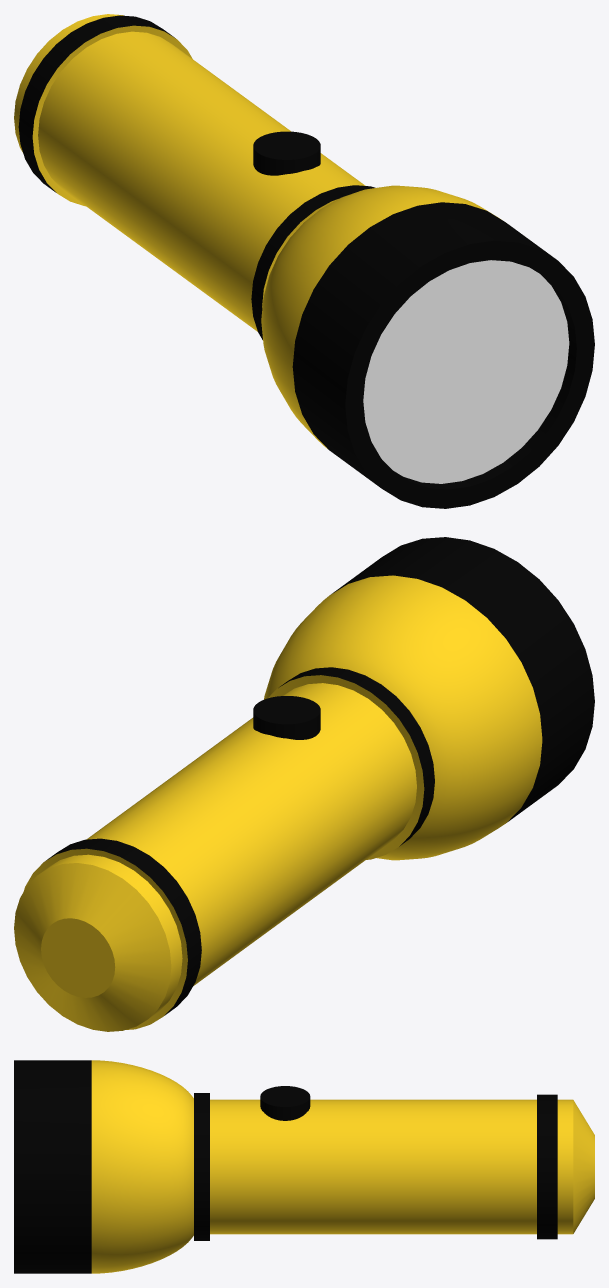
Rendered from flashlight.fbx.
3 renders of one model, top to bottom at view 1: azimuth 30°, elevation 25°; view 2: azimuth 150°, elevation 25°; view 3: azimuth 270°, elevation 25°, orthographic. The views are drawn at different scales.
Visible parts, largest first — view 1: Cylinder, Cylinder.001; view 2: Cylinder, Cylinder.001; view 3: Cylinder, Cylinder.001.
Boxes of the visible parts, bbox=[...] form: Cylinder: bbox=[14, 14, 594, 508]; Cylinder.001: bbox=[253, 131, 320, 175]; Cylinder: bbox=[14, 537, 594, 1031]; Cylinder.001: bbox=[253, 696, 320, 739]; Cylinder: bbox=[14, 1060, 594, 1273]; Cylinder.001: bbox=[260, 1086, 310, 1120].
Size of the model in its own units: 17.34 by 17.34 by 47.15.
